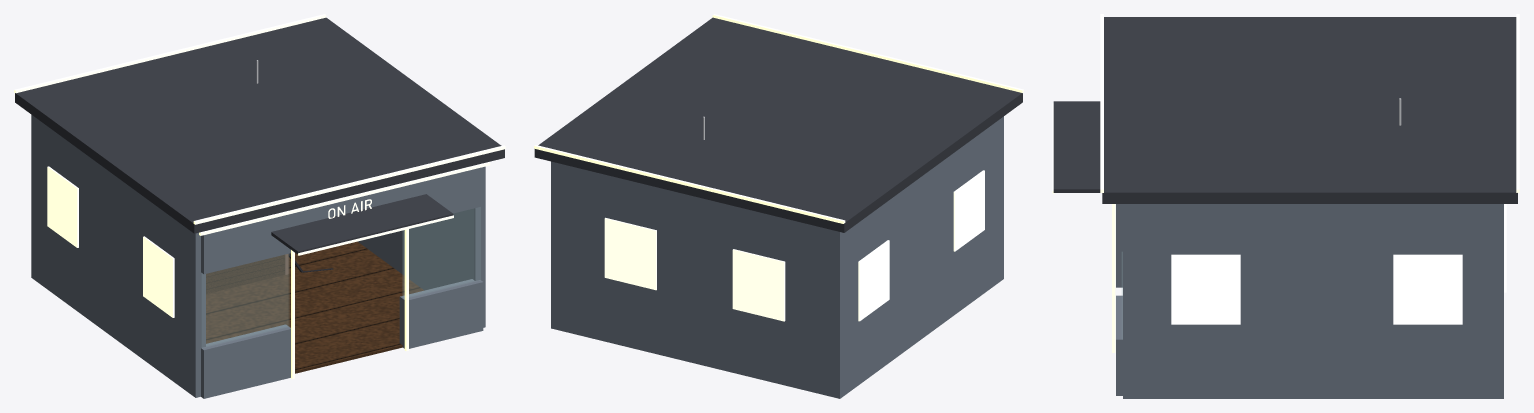
Rendered from radio.glb.
3 renders of one model, left to right at view 1: azimuth 30°, elevation 25°; view 2: azimuth 150°, elevation 25°; view 3: azimuth 270°, elevation 25°, orthographic. The views are drawn at different scales.
Parts seen in each view (by area): view 1: Roof, Boombox, Crate, Window, Awning, Side window, Tuning dial, Roof edge, Roof edge.001; view 2: Boombox, Roof, Side window, Roof edge.001, Roof edge; view 3: Roof, Boombox, Side window, Awning, Tuning dial, Roof edge, Roof edge.001.
Boxes of the visible parts, <box> form: Roof: <box>15,17,504,233</box>; Boombox: <box>31,115,485,398</box>; Crate: <box>206,241,423,373</box>; Window: <box>201,207,480,347</box>; Awning: <box>271,194,453,254</box>; Side window: <box>47,166,174,317</box>; Tuning dial: <box>199,162,490,378</box>; Roof edge: <box>193,145,505,224</box>; Roof edge.001: <box>14,14,326,93</box>; Boombox: <box>551,116,1003,398</box>; Roof: <box>534,17,1022,232</box>; Side window: <box>604,170,984,321</box>; Roof edge.001: <box>534,145,845,223</box>; Roof edge: <box>712,14,1023,92</box>; Roof: <box>1102,17,1517,203</box>; Boombox: <box>1116,204,1503,398</box>; Side window: <box>1171,204,1506,324</box>; Awning: <box>1053,101,1100,192</box>; Tuning dial: <box>1052,103,1115,352</box>; Roof edge: <box>1100,14,1103,192</box>; Roof edge.001: <box>1516,14,1519,192</box>.
Bounding box in the file's own units: 6 × 3.8 × 6.75.
15 materials, 1 textured.
